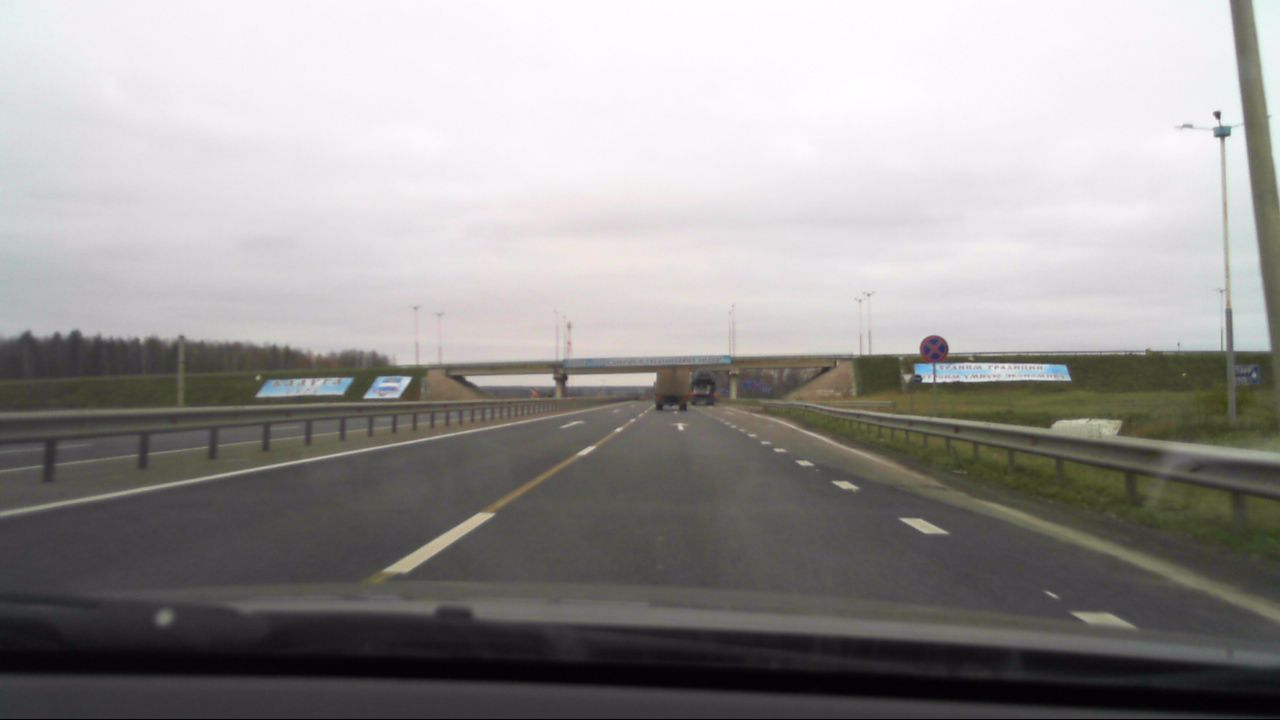No Parking: (914, 332, 952, 366)
